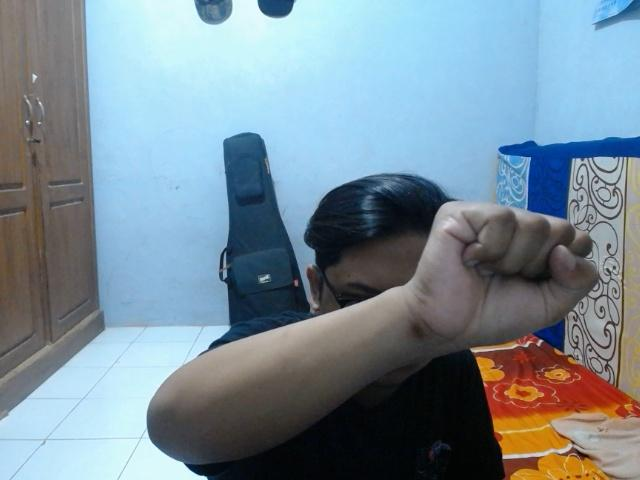Grab: (399, 193, 607, 357)
